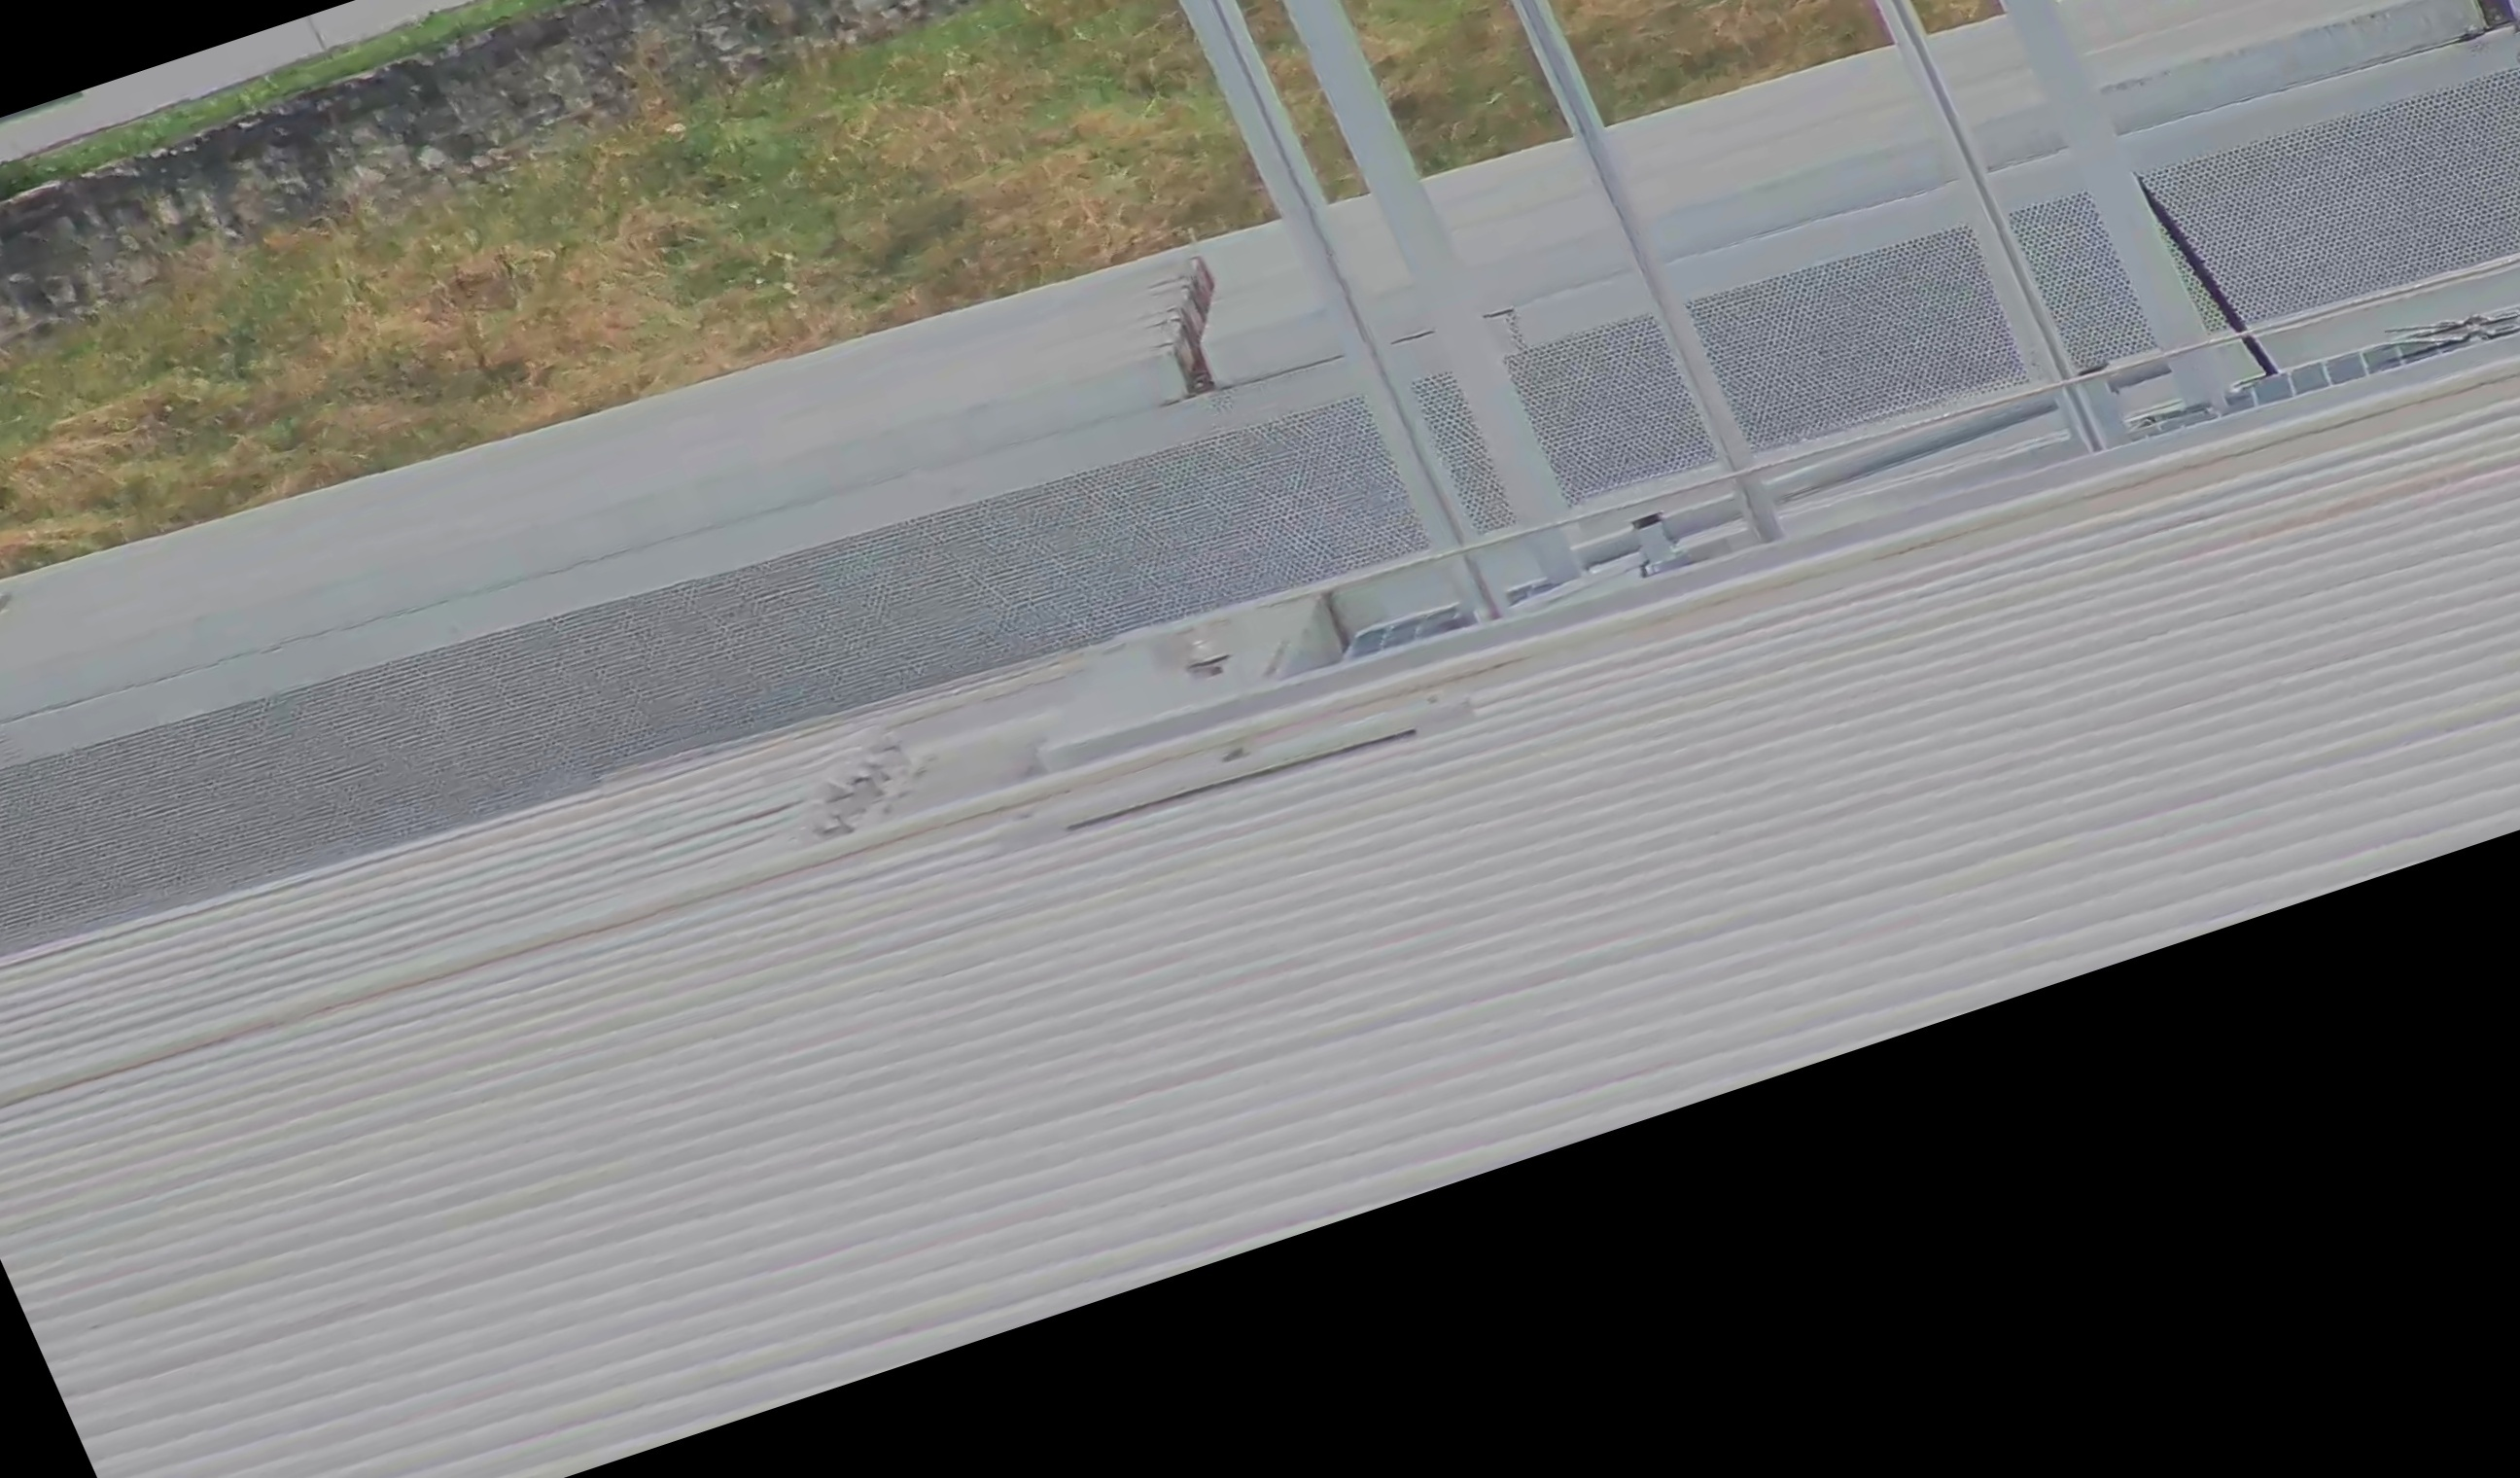Other: (1099, 230, 1275, 415)
